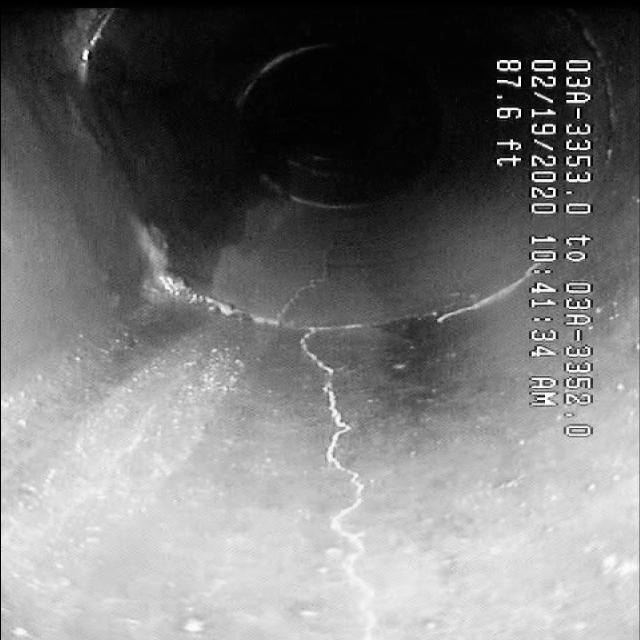Crack: (286, 328, 402, 598)
